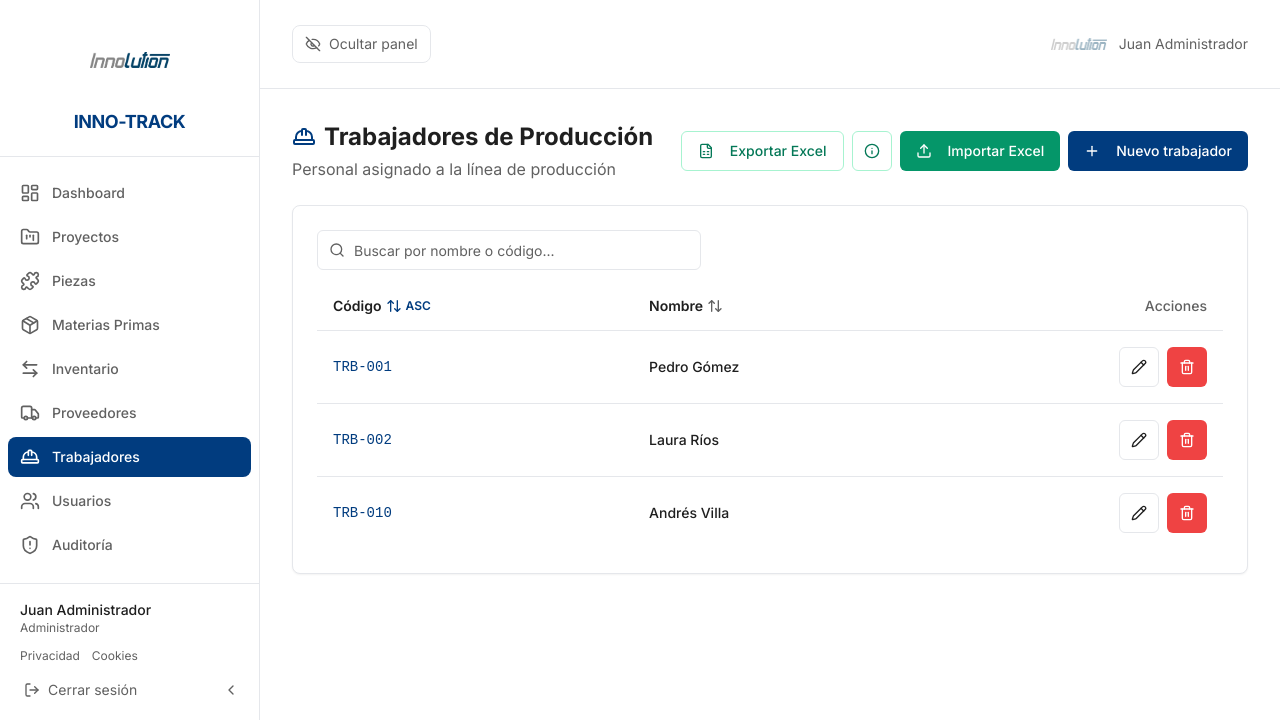
Trabajadores › muestra el error del backend al guardar
Click the button "Nuevo trabajador": (1158, 151) [1068,131,1248,171]
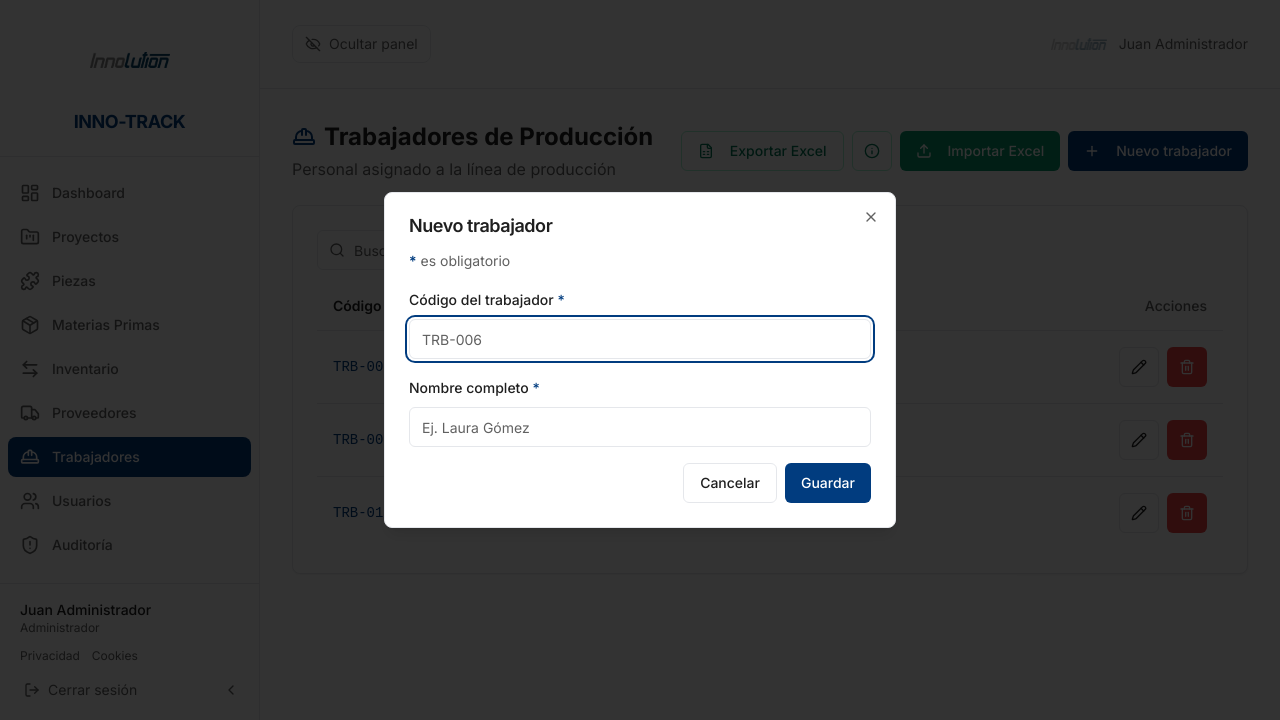
In the field labelled "Código del trabajador *": (640, 339) [409,319,871,359], type "TRB-030"
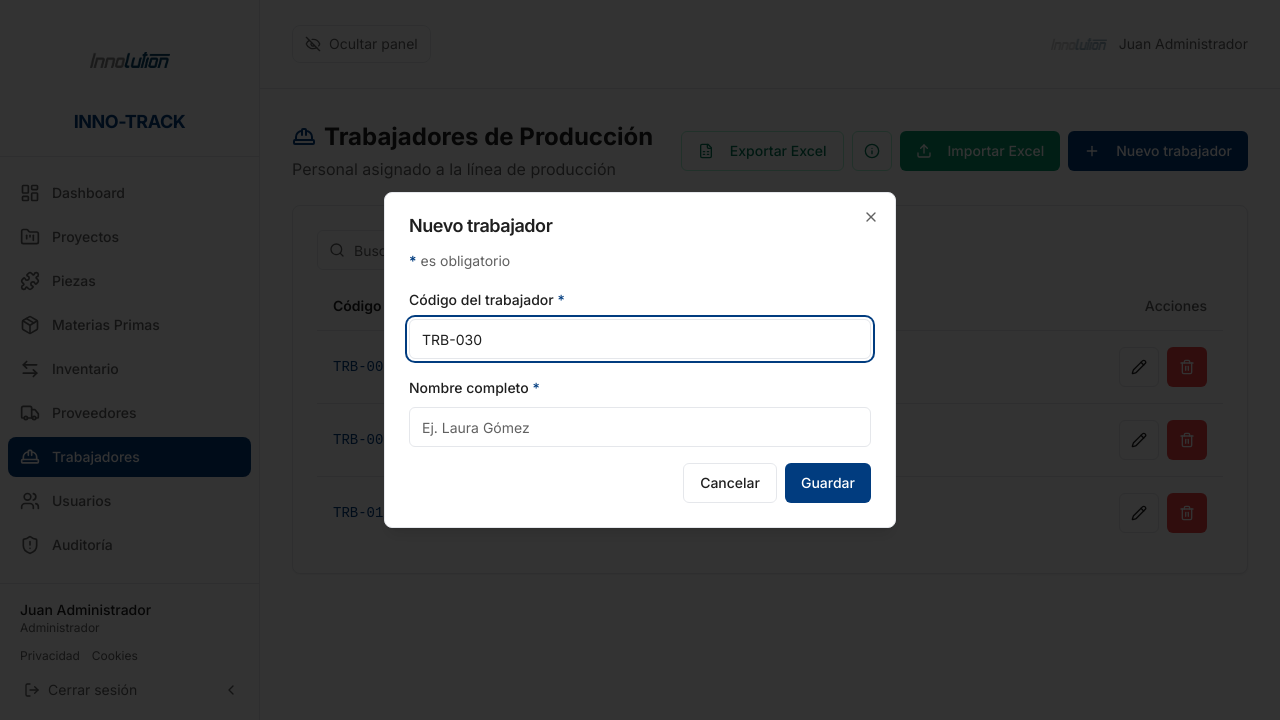
In the field labelled "Nombre completo *": (640, 427) [409,407,871,447], type "Iván Mora"
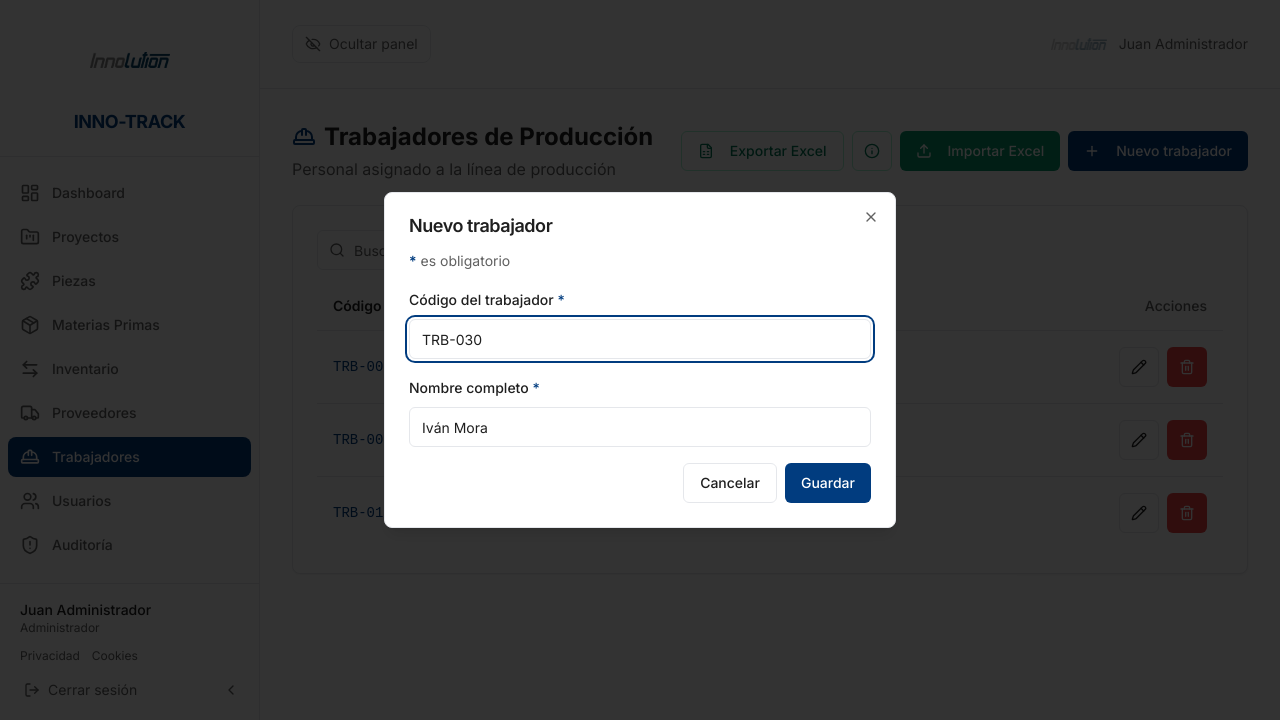
Click the button "Guardar": (828, 483) [785,463,871,503]
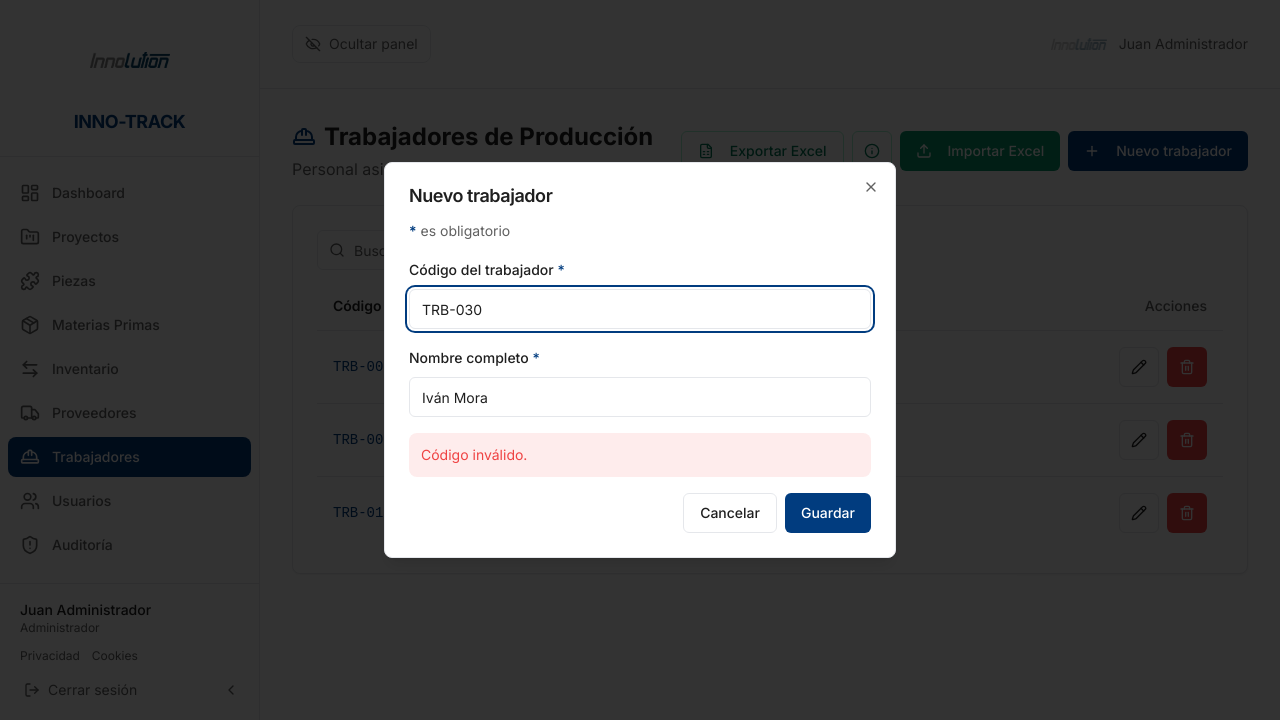
Result: the text "Código inválido." is shown at [409,433,871,477]
